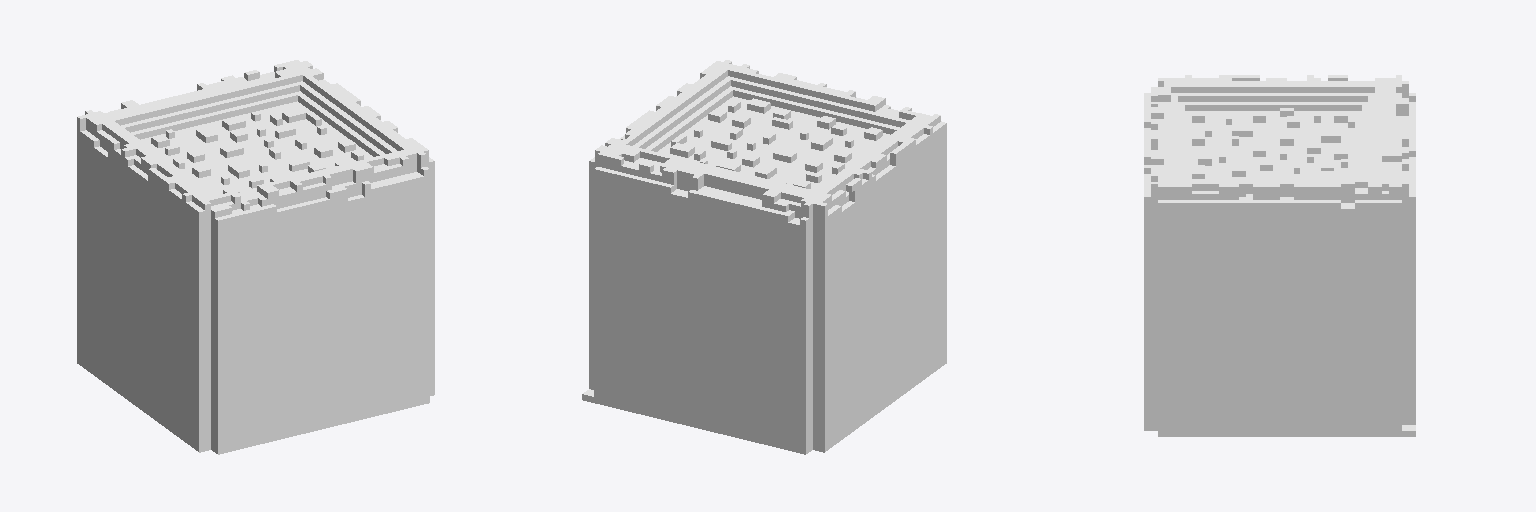
Rendered from SlowDown.obj.
3 views of the same model, side by side, from view 1: azimuth 30°, elevation 25°; view 2: azimuth 150°, elevation 25°; view 3: azimuth 270°, elevation 25° (orthographic).
Parts seen in each view (by area): view 1: object 1; view 2: object 1; view 3: object 1.
Part boxes in pixels (x1,y1,x2,y2): object 1: (77, 60, 434, 454); object 1: (582, 60, 946, 454); object 1: (1144, 75, 1415, 436).
Bounding box in the file's own units: 4 × 4 × 4.